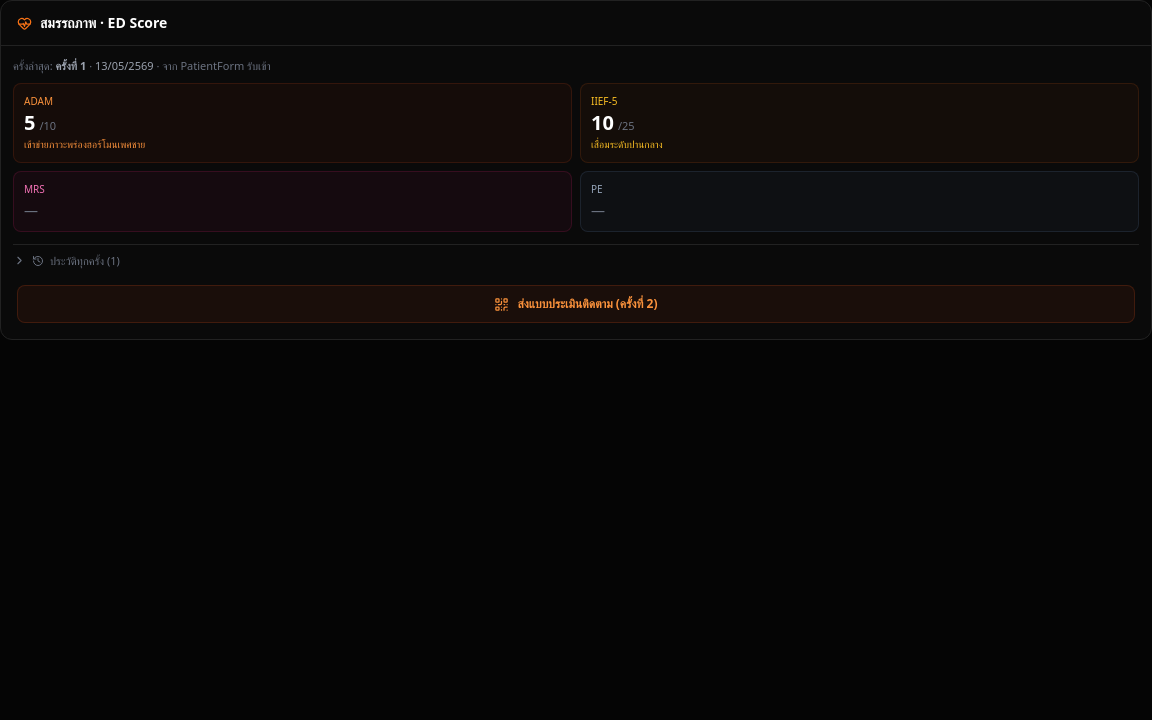
Test: ED chip → 2-panel compare modal › CM2 only ONE round → single panel + hint, no swap, no compare panel
Click the button "IIEF-5 10 /25 เสื่อมระดับปานกลาง" at coordinates (627, 144), box top-left (580, 82), bottom-right (1139, 162)
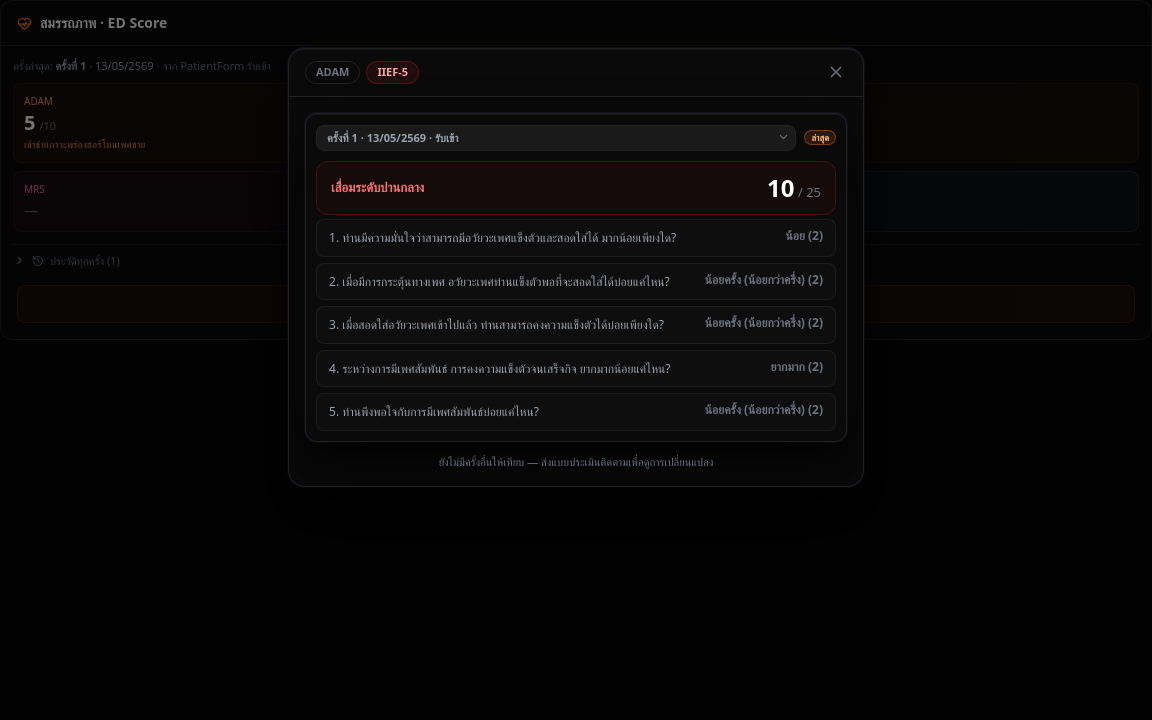
expect the text with test id "ed-compare-hint" is shown: met, box top-left (439, 454), bottom-right (713, 468)
expect the element with test id "ed-panel-primary-row-1" is shown: met, box top-left (316, 219), bottom-right (836, 256)
